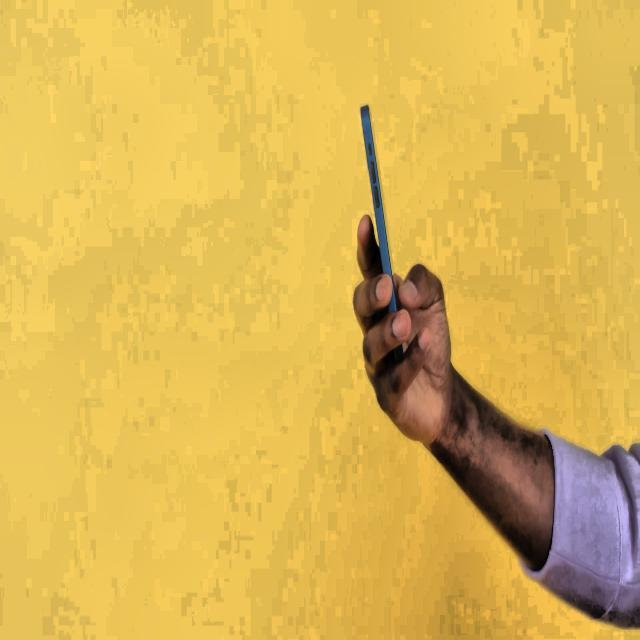Phone: (358, 98, 406, 362)
